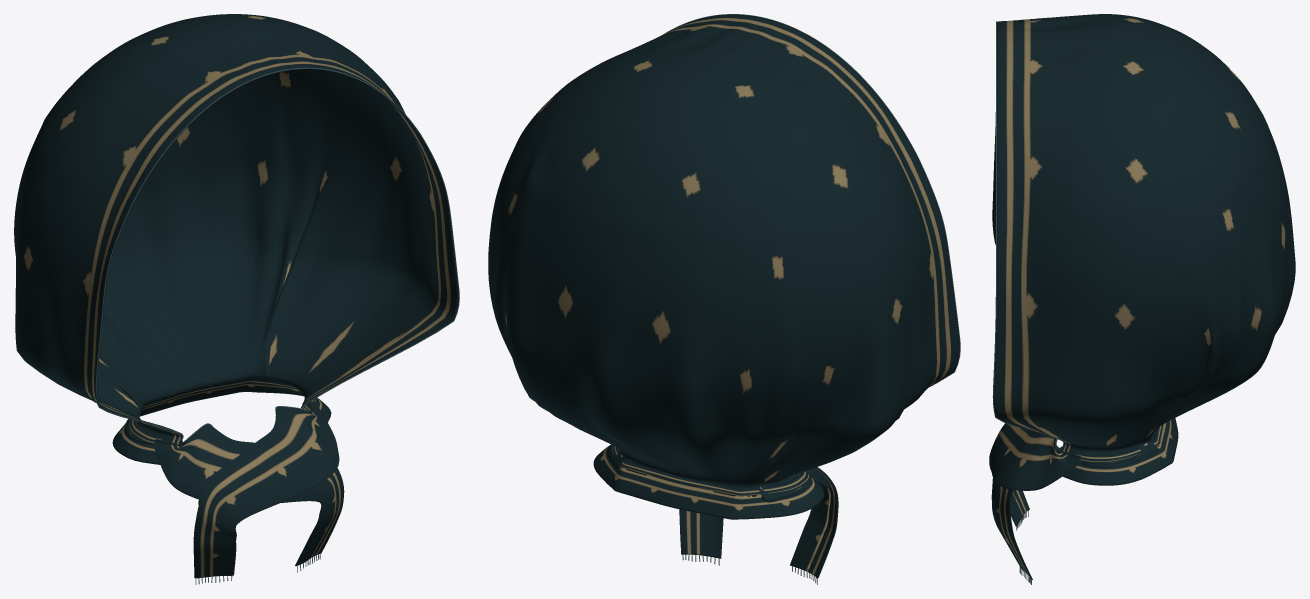
File: Feminine-triangle-pashmina238-headgear.glb
3 views of the same model, side by side, from view 1: azimuth 30°, elevation 25°; view 2: azimuth 150°, elevation 25°; view 3: azimuth 270°, elevation 25° (orthographic). The views are drawn at different scales.
Visible parts, largest first — view 1: 226 headgear / Headwear / continuous woven pashmina238, 226 headgear / Headwear / face edge238; view 2: 226 headgear / Headwear / continuous woven pashmina238, 226 headgear / Headwear / face edge238; view 3: 226 headgear / Headwear / continuous woven pashmina238, 226 headgear / Headwear / face edge238.
Boxes of the visible parts, <box> form: 226 headgear / Headwear / continuous woven pashmina238: <box>14,14,458,578</box>; 226 headgear / Headwear / face edge238: <box>95,67,459,443</box>; 226 headgear / Headwear / continuous woven pashmina238: <box>488,14,959,578</box>; 226 headgear / Headwear / face edge238: <box>663,14,960,387</box>; 226 headgear / Headwear / continuous woven pashmina238: <box>989,14,1295,579</box>; 226 headgear / Headwear / face edge238: <box>992,21,1064,448</box>.
Bounding box in the file's own units: 1.02 × 1.35 × 0.7191.
3 materials, 1 textured.
